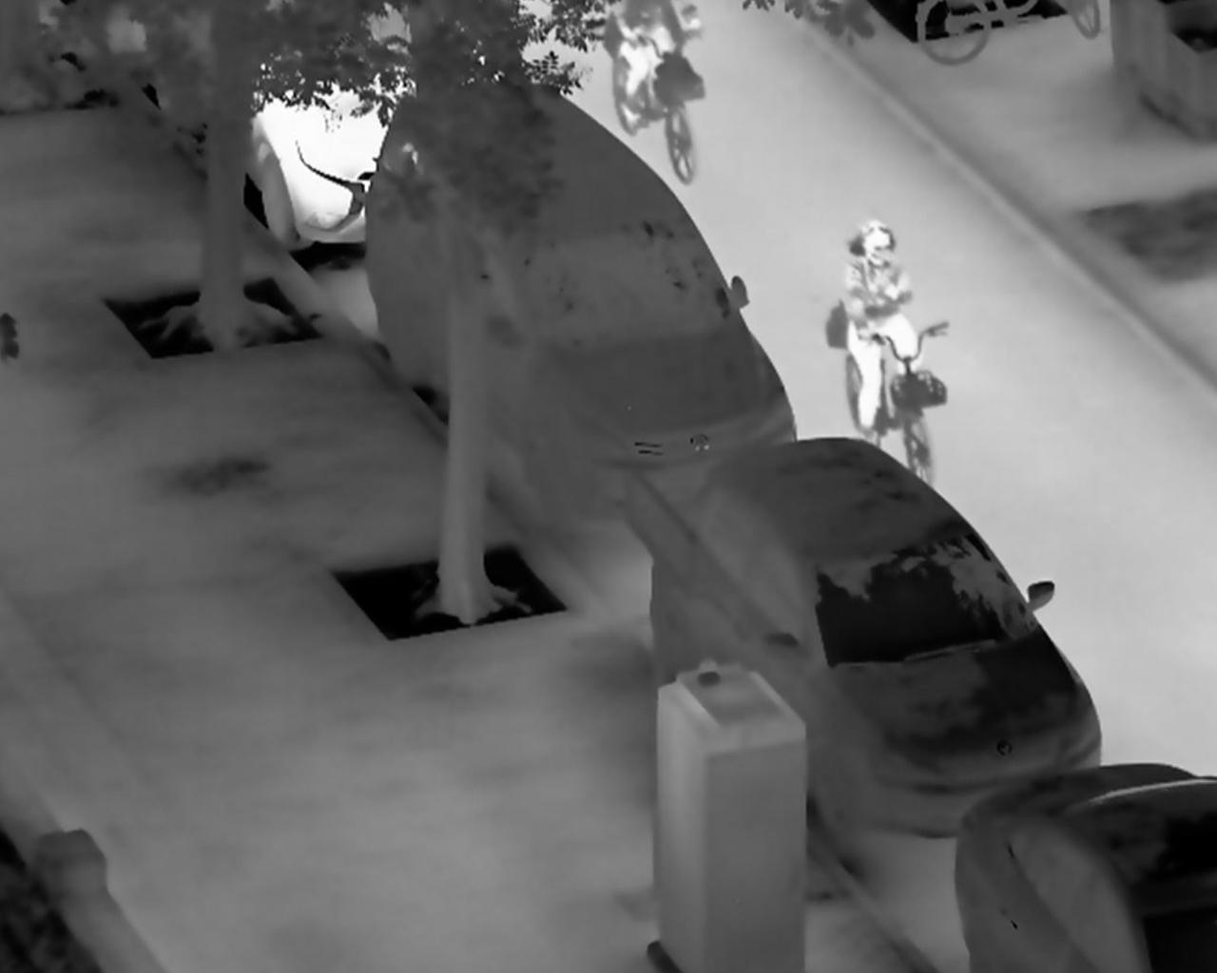person: (842, 218, 928, 441)
